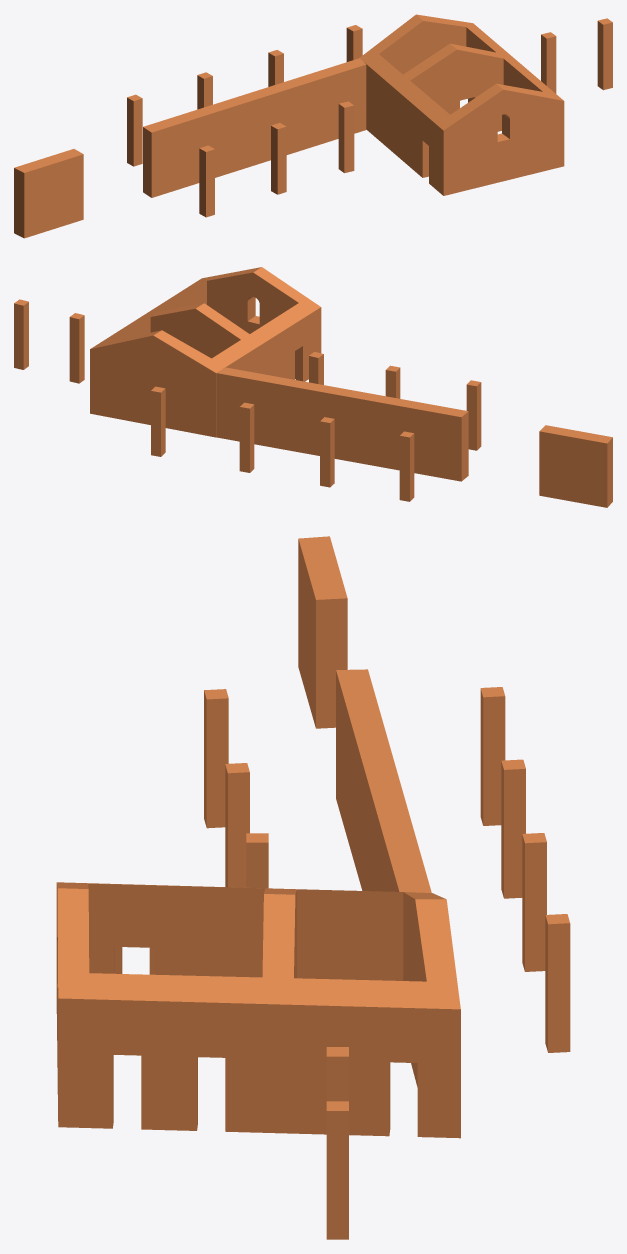
The model's file is convento3.glb.
3 views of the same model, one above another, from view 1: azimuth 30°, elevation 25°; view 2: azimuth 150°, elevation 25°; view 3: azimuth 270°, elevation 25° (orthographic). The views are drawn at different scales.
Visible parts, largest first — view 1: Foresteria, Muro, Muro.001, Cube.002, Cube, Cube.001, Cube.003, Cube.008, Cube.007, Cube.006, Cube.004, Cube.005; view 2: Foresteria, Muro, Muro.001, Cube.003, Cube.005, Cube.007, Cube.008, Cube.004, Cube.006, Cube, Cube.001, Cube.002; view 3: Foresteria, Muro, Muro.001, Cube.006, Cube.005, Cube.003, Cube, Cube.004, Cube.008, Cube.001, Cube.002, Cube.007.
Boxes of the visible parts, x1,y1,x2,y2 form: Foresteria: [359, 14, 564, 195]; Muro: [143, 58, 366, 197]; Muro.001: [14, 149, 83, 238]; Cube.002: [338, 101, 354, 173]; Cube: [199, 145, 214, 217]; Cube.001: [271, 123, 286, 194]; Cube.003: [127, 94, 142, 166]; Cube.008: [597, 18, 612, 90]; Cube.007: [541, 32, 556, 93]; Cube.006: [346, 25, 362, 61]; Cube.004: [197, 72, 212, 109]; Cube.005: [268, 50, 283, 86]; Foresteria: [90, 267, 321, 437]; Muro: [216, 367, 468, 481]; Muro.001: [539, 425, 612, 507]; Cube.003: [399, 431, 414, 501]; Cube.005: [239, 402, 254, 472]; Cube.007: [69, 313, 84, 383]; Cube.008: [14, 299, 28, 369]; Cube.004: [320, 417, 334, 487]; Cube.006: [151, 386, 165, 456]; Cube: [466, 380, 481, 450]; Cube.001: [385, 365, 400, 398]; Cube.002: [309, 351, 323, 384]; Foresteria: [56, 882, 460, 1138]; Muro: [336, 669, 431, 892]; Muro.001: [298, 536, 347, 728]; Cube.006: [545, 914, 570, 1052]; Cube.005: [522, 833, 546, 971]; Cube.003: [480, 687, 505, 825]; Cube: [204, 689, 228, 828]; Cube.004: [501, 759, 525, 898]; Cube.008: [326, 1101, 348, 1239]; Cube.001: [225, 763, 249, 887]; Cube.002: [246, 833, 268, 888]; Cube.007: [326, 1047, 348, 1101].
Bounding box in the file's own units: 5.98 × 0.8774 × 2.26.
